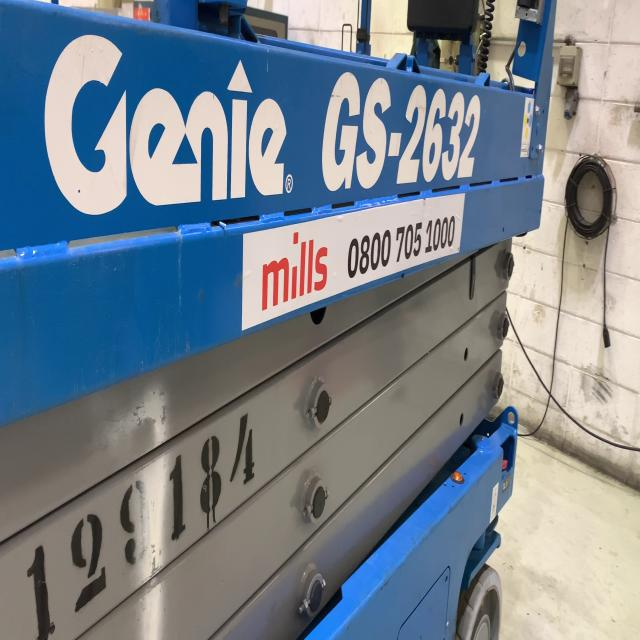Adesivo Longo: (240, 189, 467, 337)
